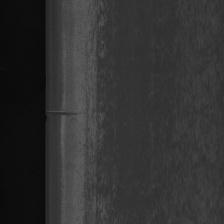crease: (96, 6, 218, 219), (45, 106, 84, 124)
